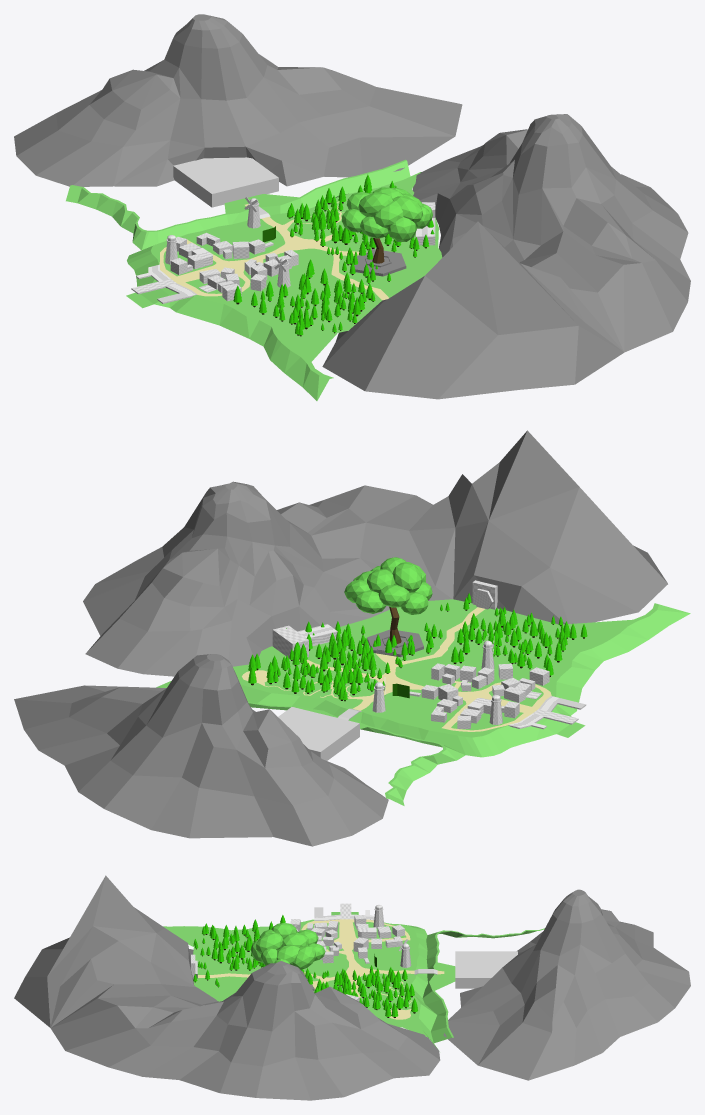
The model's file is main_map.fbx.
3 views of the same model, one above another, from view 1: azimuth 30°, elevation 25°; view 2: azimuth 150°, elevation 25°; view 3: azimuth 270°, elevation 25° (orthographic). The views are drawn at different scales.
Parts seen in each view (by area): view 1: mountainRange, mountain_1, groundTerrain, Cube.017, treeRandomDisperse.001, pathWayMainMap, treeRandomDisperse, megaTreeLeaf_act4, megaTreeLeaf_act1, Cube.005, treeRandomDisperse.002, stonePlatform_upper (+1 smaller); view 2: mountainRange, mountain_1, groundTerrain, treeRandomDisperse.001, treeRandomDisperse, pathWayMainMap, Cube.017, treeRandomDisperse.002, megaTreeLeaf_act4, Cube.018, Cube.005, megaTreeLeaf_act2 (+1 smaller); view 3: mountainRange, mountain_1, groundTerrain, pathWayMainMap, treeRandomDisperse.001, treeRandomDisperse, Cube.017, megaTreeLeaf_act2, megaTreeLeaf_act4, treeRandomDisperse.002, megaTreeLeaf_act3, Cube.005.
Boxes of the visible parts, bbox=[...] form: mountainRange: bbox=[322, 114, 690, 399]; mountain_1: bbox=[14, 14, 462, 186]; groundTerrain: bbox=[66, 159, 442, 400]; Cube.017: bbox=[173, 157, 278, 207]; treeRandomDisperse.001: bbox=[233, 259, 390, 336]; pathWayMainMap: bbox=[159, 200, 388, 300]; treeRandomDisperse: bbox=[287, 183, 419, 271]; megaTreeLeaf_act4: bbox=[346, 187, 404, 228]; megaTreeLeaf_act1: bbox=[342, 209, 416, 241]; Cube.005: bbox=[131, 264, 196, 303]; treeRandomDisperse.002: bbox=[290, 174, 435, 269]; stonePlatform_upper: bbox=[353, 249, 406, 276]; mountainRange: bbox=[83, 430, 667, 676]; mountain_1: bbox=[14, 654, 388, 846]; groundTerrain: bbox=[156, 599, 690, 805]; treeRandomDisperse.001: bbox=[424, 593, 587, 676]; treeRandomDisperse: bbox=[266, 623, 430, 701]; pathWayMainMap: bbox=[242, 607, 551, 731]; Cube.017: bbox=[278, 707, 359, 760]; treeRandomDisperse.002: bbox=[248, 621, 414, 689]; megaTreeLeaf_act4: bbox=[367, 562, 425, 607]; Cube.018: bbox=[272, 624, 337, 660]; Cube.005: bbox=[508, 696, 586, 729]; megaTreeLeaf_act2: bbox=[344, 571, 386, 613]; mountainRange: bbox=[14, 875, 440, 1100]; mountain_1: bbox=[443, 889, 690, 1080]; groundTerrain: bbox=[163, 912, 544, 1049]; pathWayMainMap: bbox=[198, 919, 444, 1019]; treeRandomDisperse.001: bbox=[193, 915, 285, 987]; treeRandomDisperse: bbox=[313, 967, 414, 1010]; Cube.017: bbox=[455, 951, 517, 988]; megaTreeLeaf_act2: bbox=[276, 943, 325, 969]; megaTreeLeaf_act4: bbox=[259, 923, 318, 947]; treeRandomDisperse.002: bbox=[301, 965, 417, 1017]; megaTreeLeaf_act3: bbox=[256, 933, 289, 965]; Cube.005: bbox=[314, 903, 374, 920].
Bounding box in the file's own units: 24607 × 35906 × 6692.
9 materials, 1 textured.
